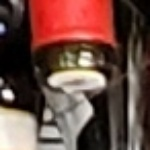bottle: (20, 17, 135, 119)
